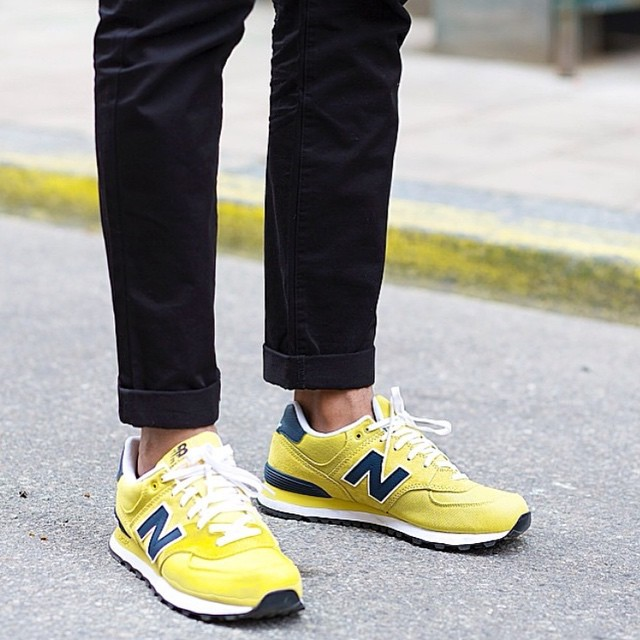sneaker: (89, 375, 327, 640), (247, 367, 551, 569)
